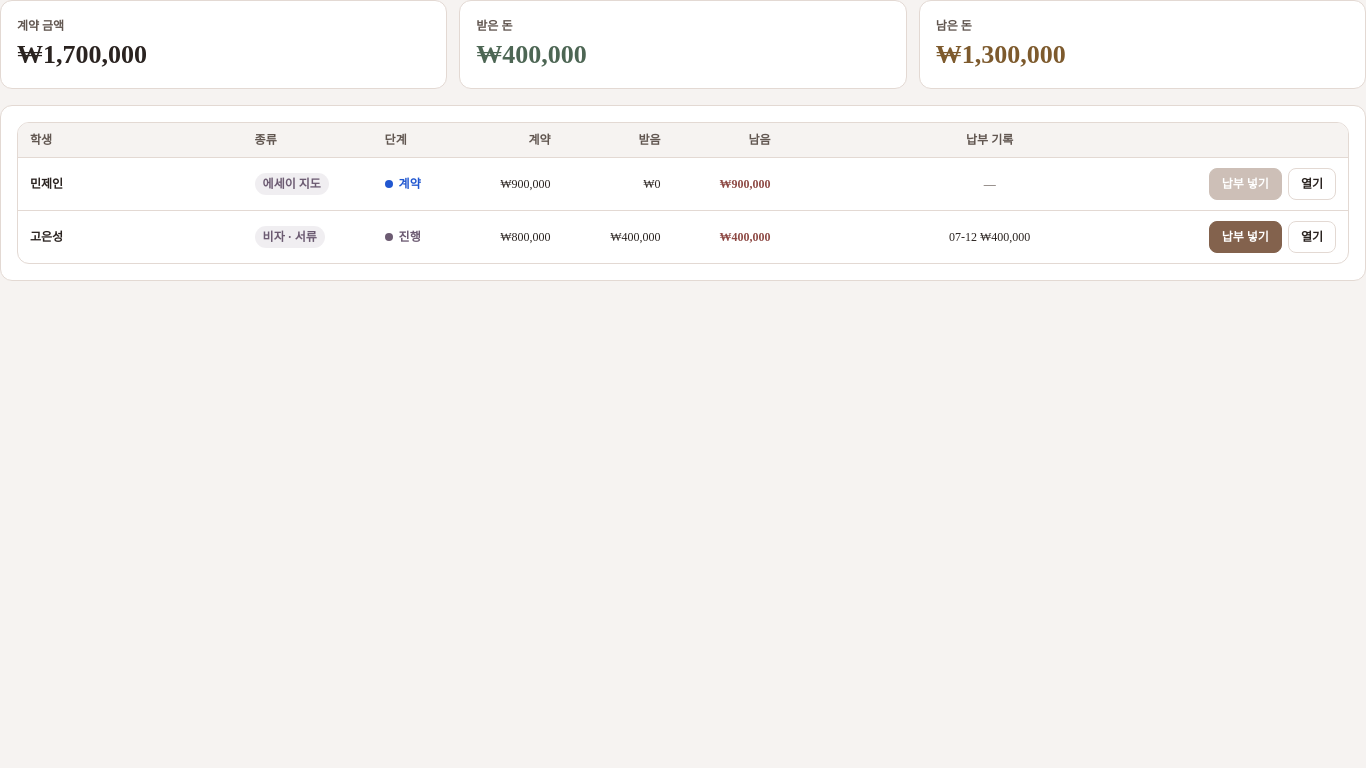
it: 열기 서랍은 납부 기록을 한 줄도 빼지 않고 보여 준다
The width and height of the screenshot is (1366, 768).
Step 1. Click the button "열기" in the row of "고은성" → (1312, 236), box [1288,220,1336,252]
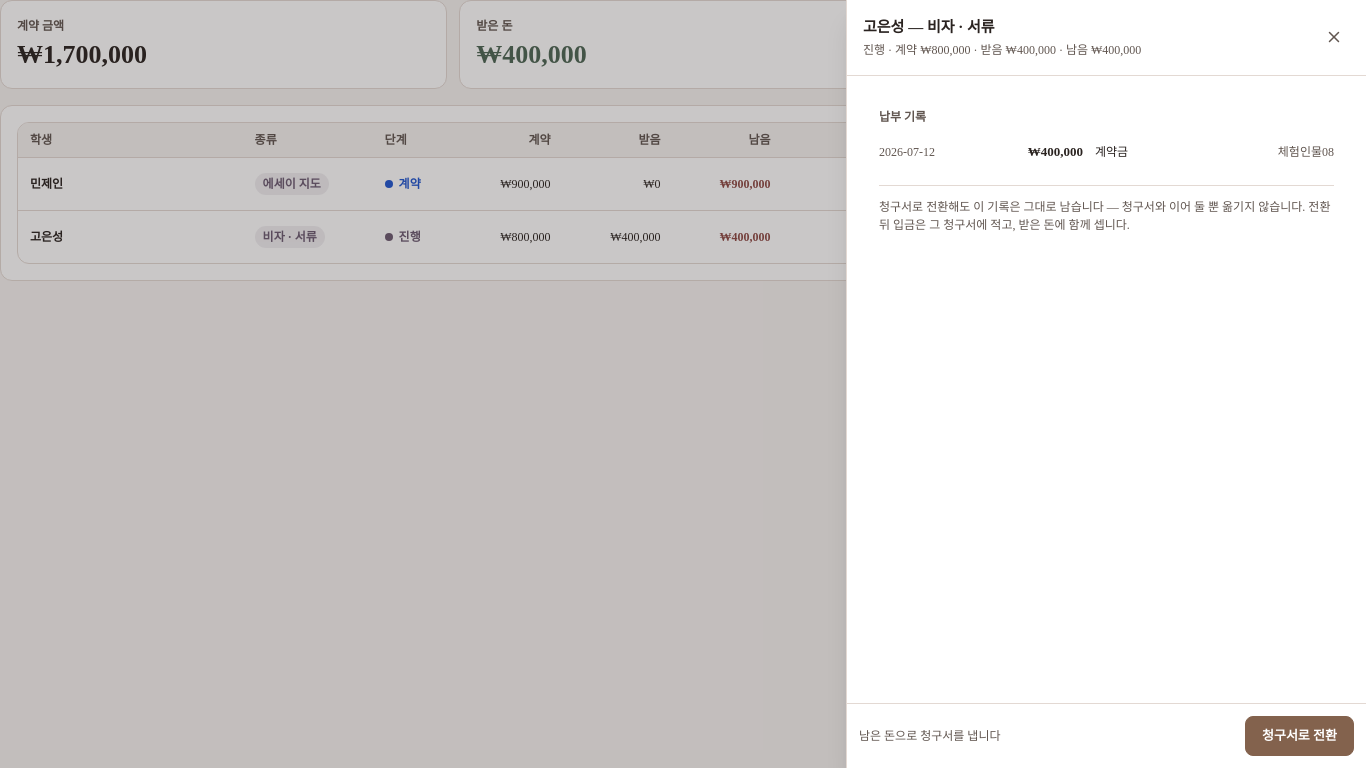
Result: the text "2026-07-12" is shown at [879,144,935,158]
Result: the text "계약금" is shown at [1095,144,1128,158]
Result: the text "체험인물08" is shown at [1278,142,1334,160]
